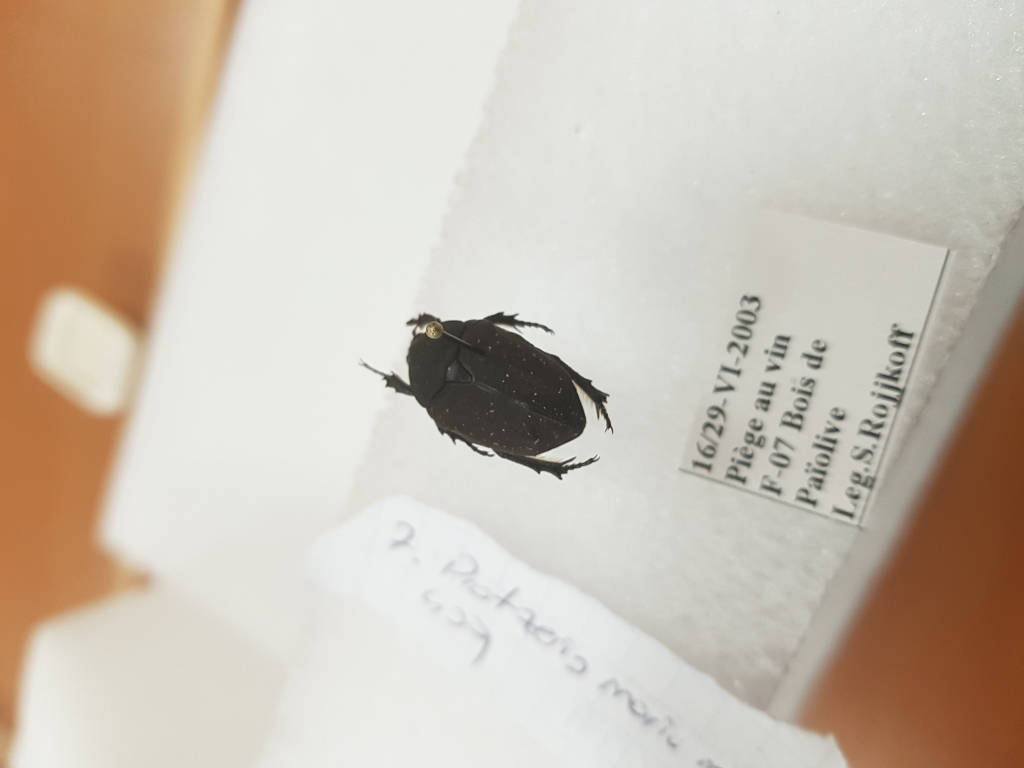Protaetia_morio_morio: (352, 299, 619, 483)
